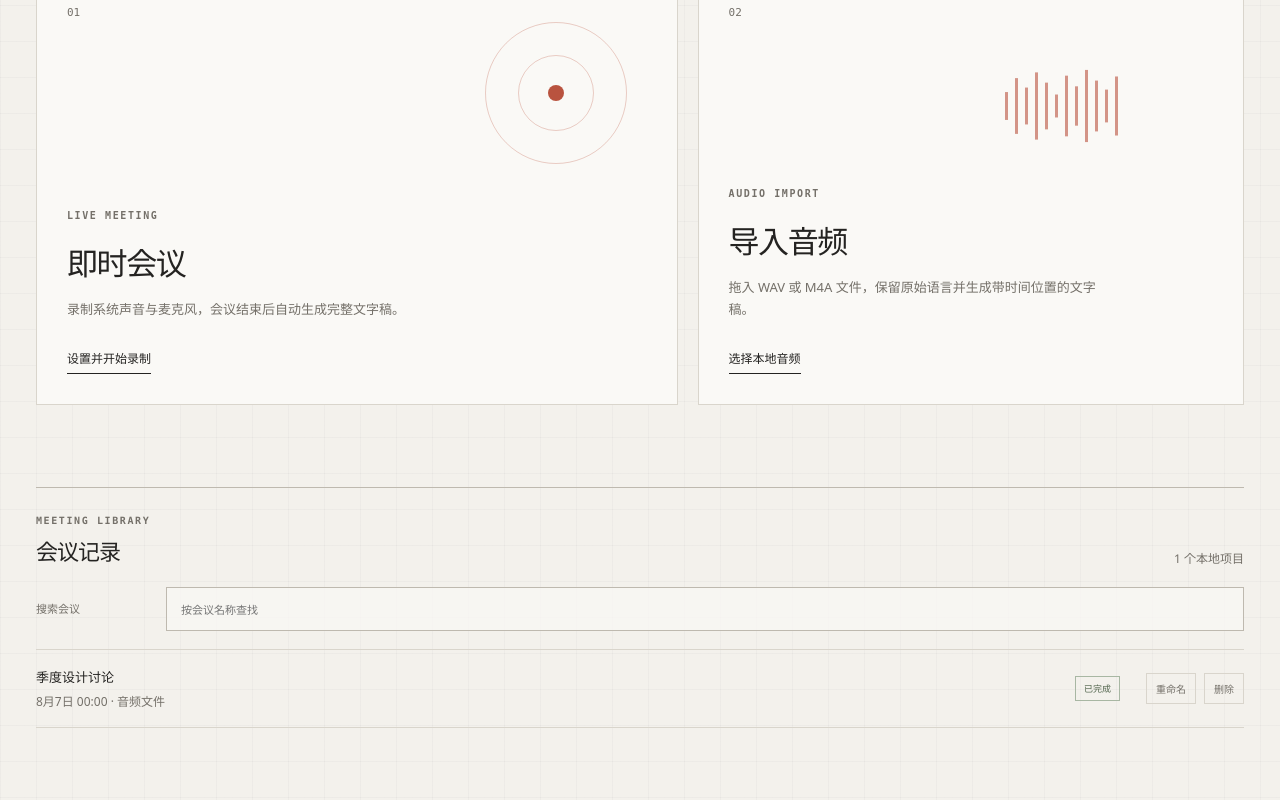
shows completed transcripts on the home screen
(page scrolled)
Step 1. Click the button "季度设计讨论" → click(100, 689), box x1=36 y1=650 x2=165 y2=728
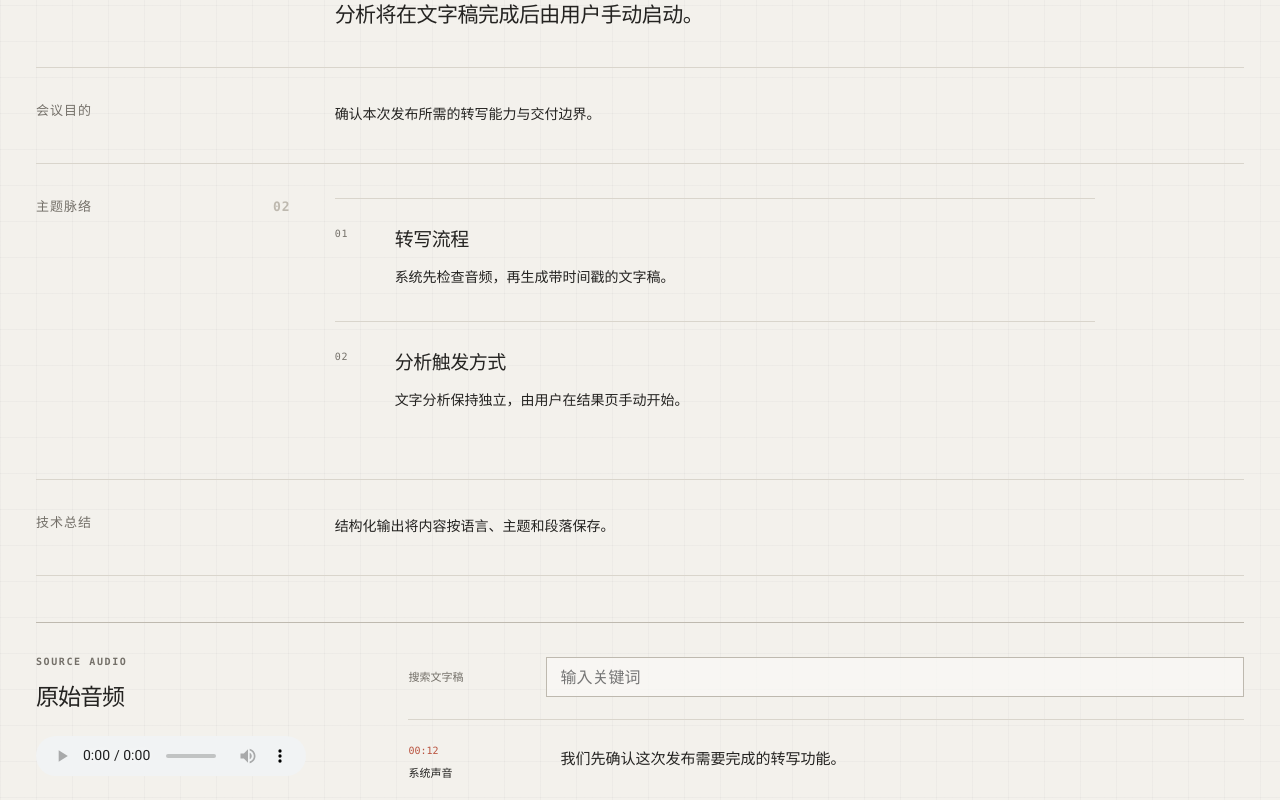
Result: the text "我们先确认这次发布需要完成的转写功能。" is shown at x1=560 y1=749 x2=845 y2=769
